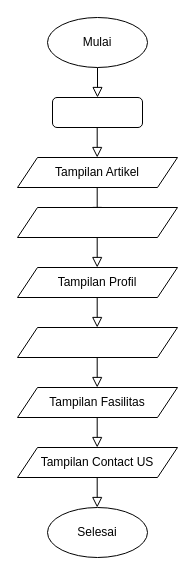
Some shapes in this 195 by 575 pixel diagram are drawn without their labels. The box of each missing label's shape, as (x1, y1, x2, y2) in pixels:
Hal User: (52, 96, 142, 128)
Tampilan Eskul: (16, 206, 178, 238)
Tampilan Kurikulum: (16, 326, 178, 358)
